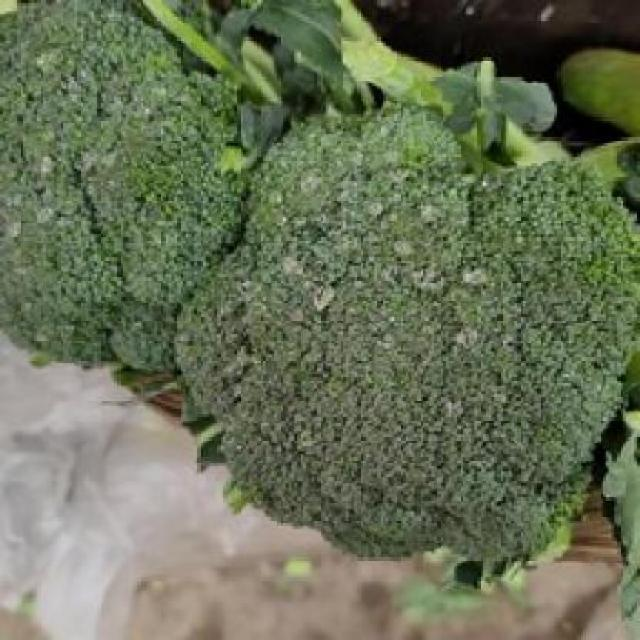broccoli: (248, 70, 638, 566), (3, 20, 246, 368)
